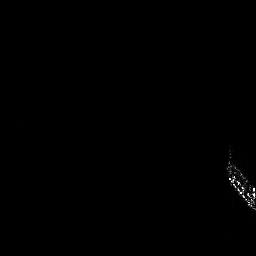ship: (226, 148, 256, 212)
